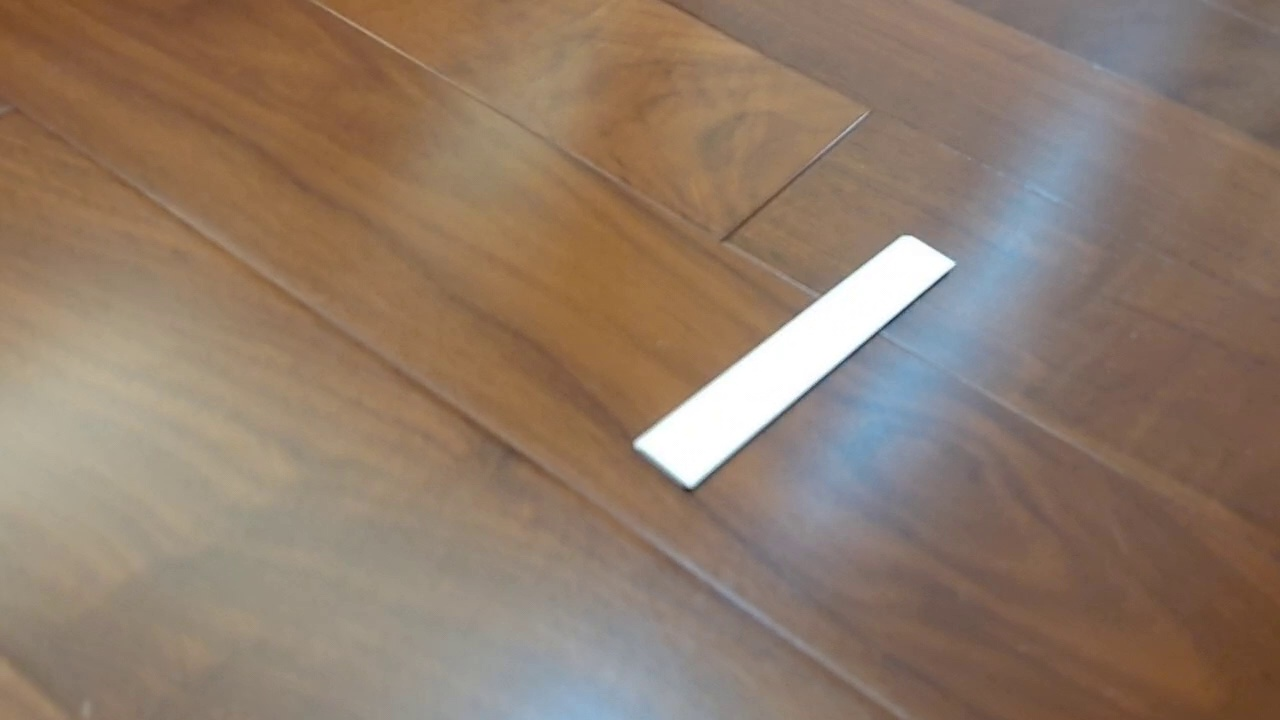ruler: (629, 232, 960, 496)
